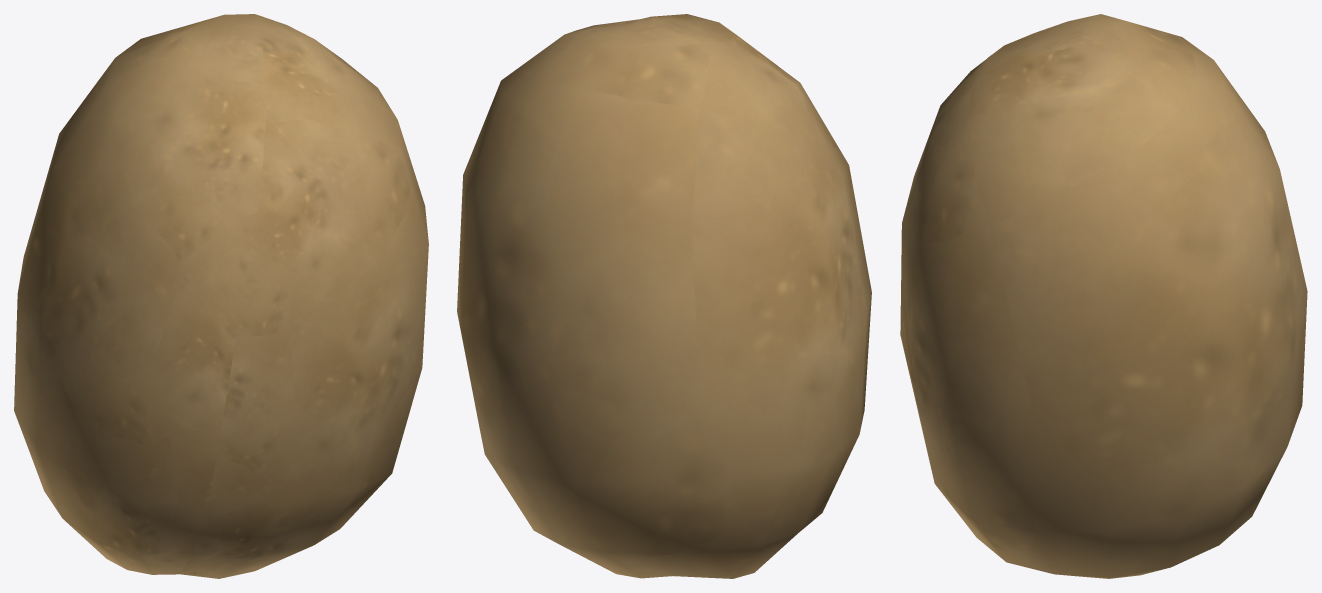
The model's file is LP_PotatoRaw.glb.
3 renders of one model, left to right at view 1: azimuth 30°, elevation 25°; view 2: azimuth 150°, elevation 25°; view 3: azimuth 270°, elevation 25°, orthographic. The views are drawn at different scales.
Parts seen in each view (by area): view 1: CookedPotato; view 2: CookedPotato; view 3: CookedPotato.
Boxes of the visible parts, x1=… form: CookedPotato: x1=14, y1=14, x2=428, y2=578; CookedPotato: x1=457, y1=14, x2=871, y2=578; CookedPotato: x1=900, y1=14, x2=1307, y2=578.
Bounding box in the file's own units: 0.307 × 0.4311 × 0.2981.
Materials: 1 (1 with a texture image).
